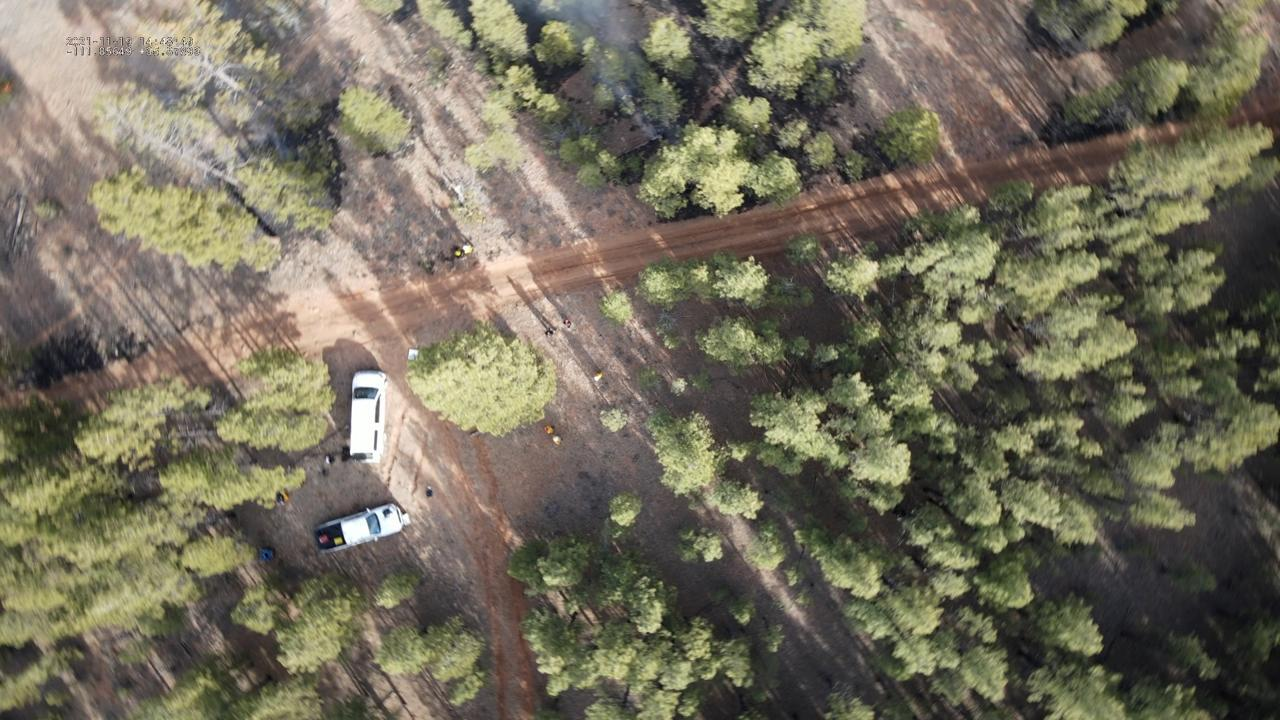smoke: (521, 0, 663, 143)
